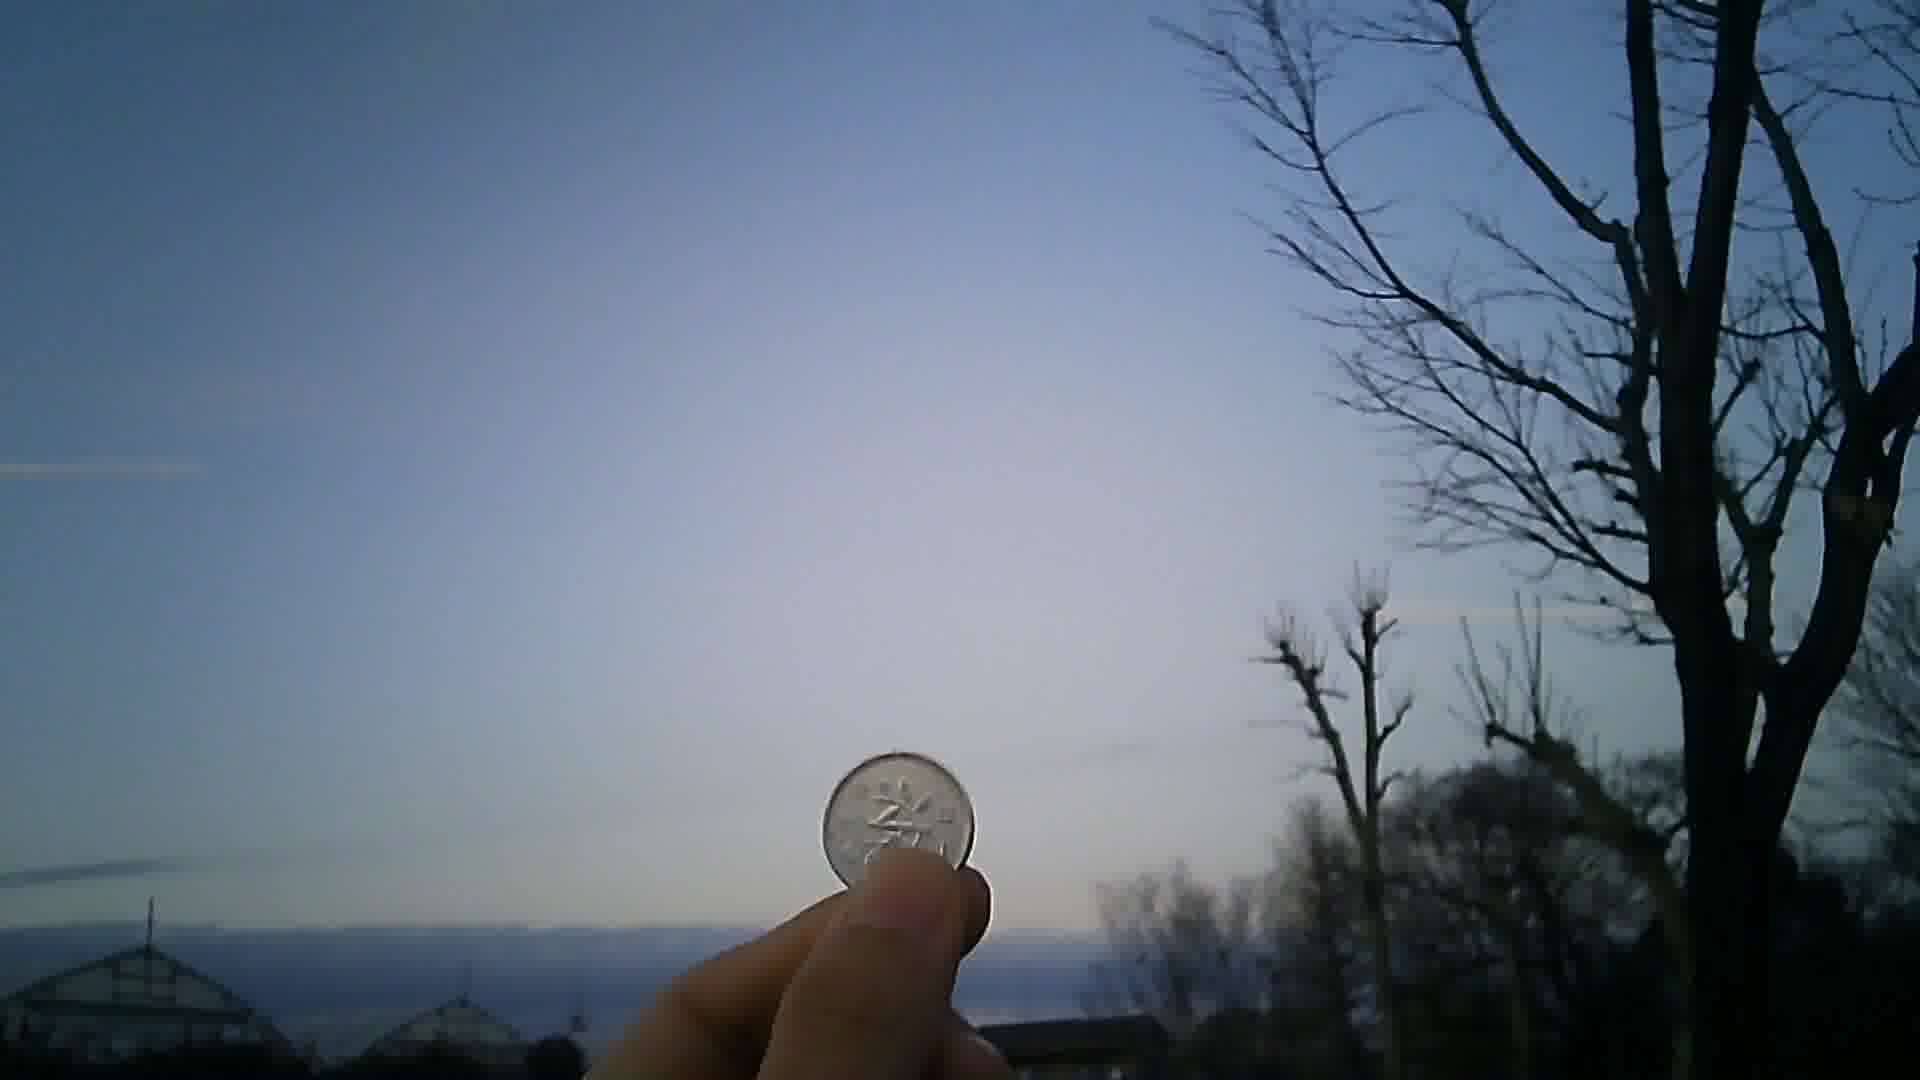1 Yen: (823, 744, 973, 887)
